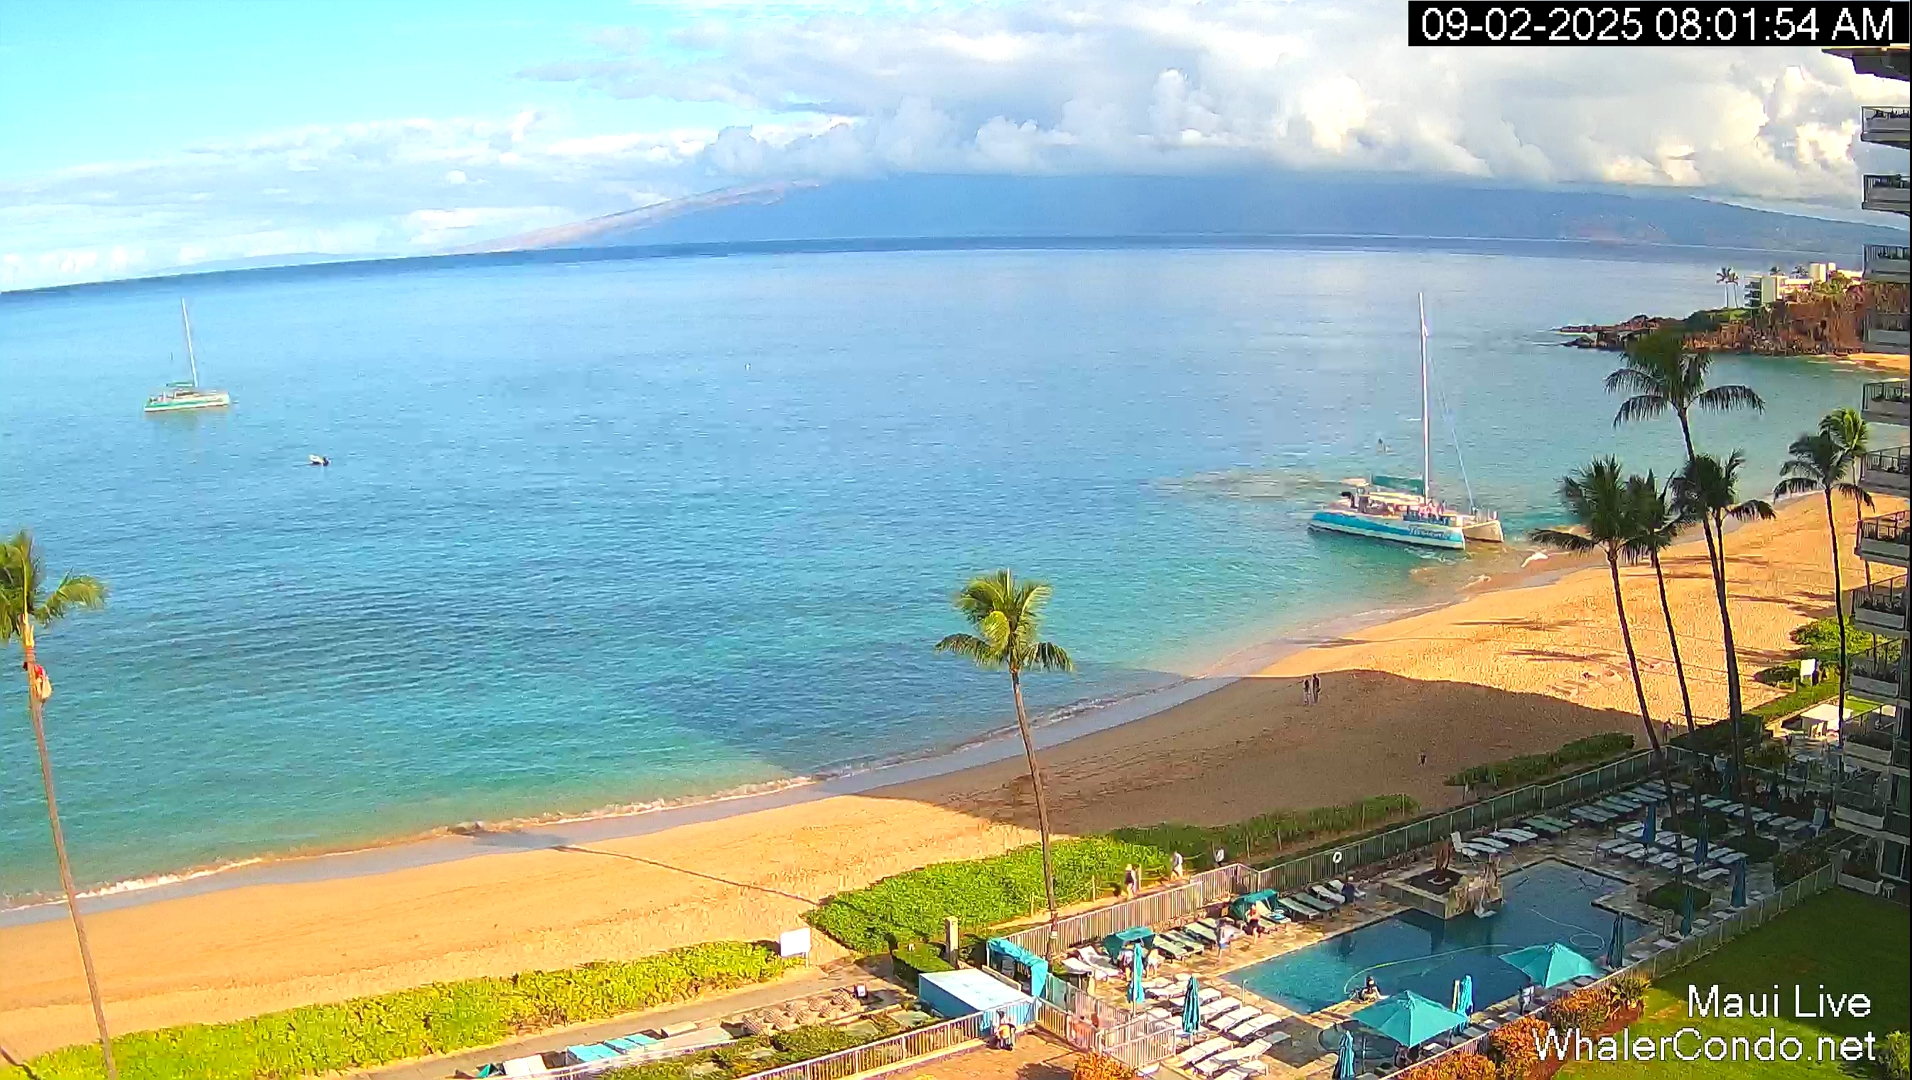boat: (1308, 293, 1505, 550), (143, 298, 231, 413), (1307, 512, 1504, 551), (143, 383, 231, 413)
person: (945, 567, 1054, 640), (1246, 903, 1261, 943), (1361, 976, 1382, 1002), (997, 1024, 1010, 1049), (1312, 673, 1321, 698), (1303, 679, 1310, 705)
